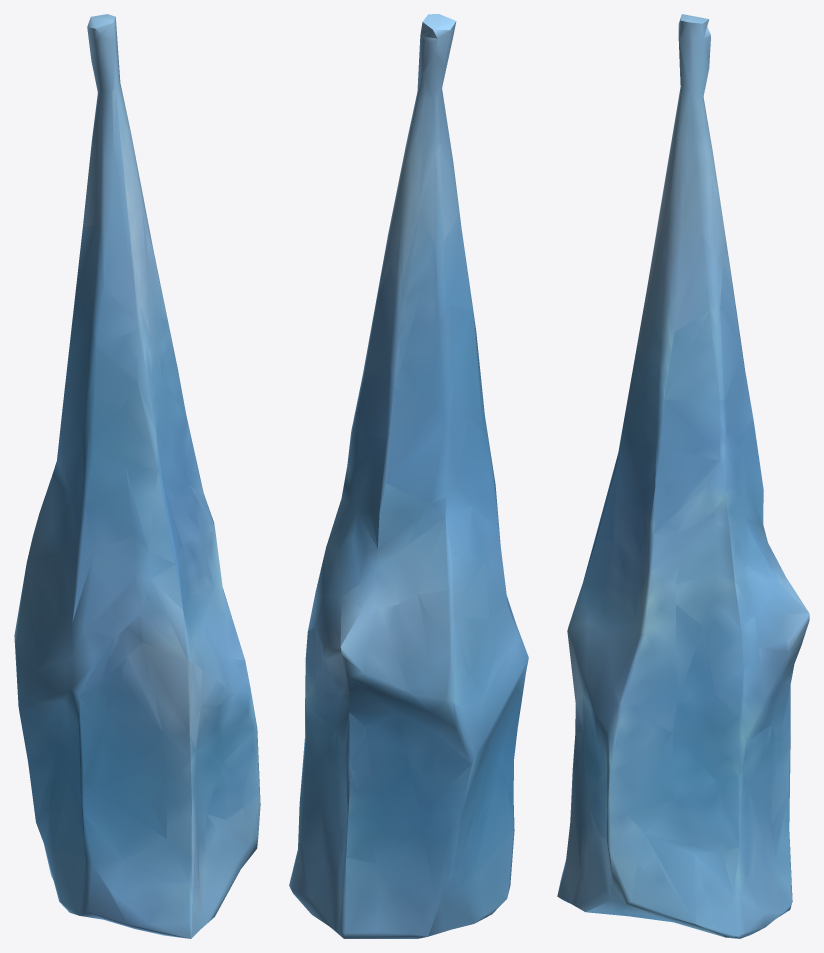
The model's file is pincho_escarcha_1_700.glb.
3 views of the same model, side by side, from view 1: azimuth 30°, elevation 25°; view 2: azimuth 150°, elevation 25°; view 3: azimuth 270°, elevation 25° (orthographic). The views are drawn at different scales.
Visible parts, largest first — view 1: pincho_escarcha_1_malla; view 2: pincho_escarcha_1_malla; view 3: pincho_escarcha_1_malla.
Boxes of the visible parts, x1,y1,x2,y2 form: pincho_escarcha_1_malla: (14,14,260,938); pincho_escarcha_1_malla: (289,14,528,938); pincho_escarcha_1_malla: (557,14,809,938).
Bounding box in the file's own units: 0.0387 × 0.1704 × 0.0447.
1 material, 1 textured.
